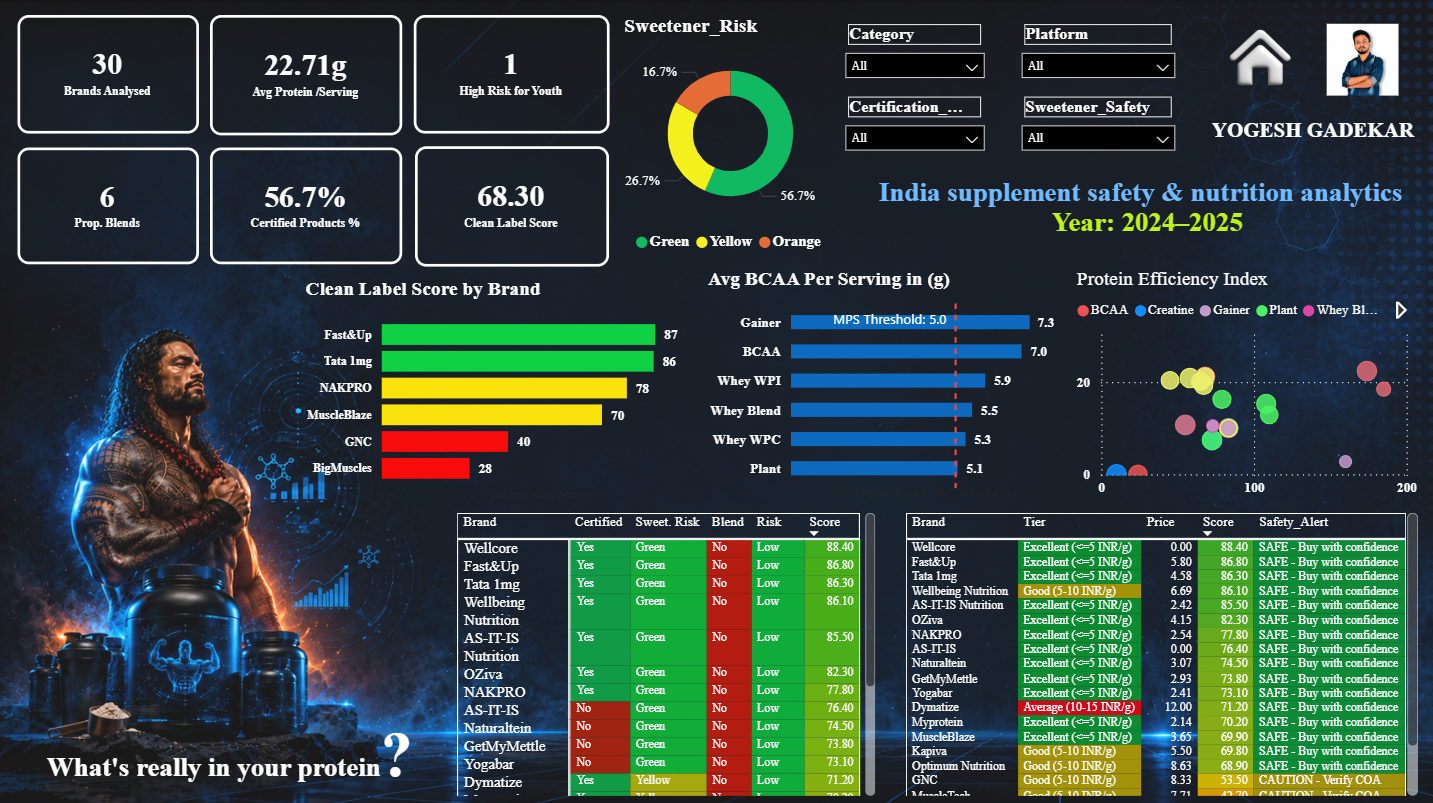

The page's visual inventory and layout, read from the dashboard file:
{"tool":"powerbi","page":{"name":"Page 1","canvas":[1280,720],"ordinal":0},"visuals":[{"type":"cardVisual","fields":{"Data":["protein_supplements_india.Total Products"]},"box":[15.7,12.9,161.4,105.7],"z":0},{"type":"cardVisual","fields":{"Data":["protein_supplements_india.Avg Protein Per Serving"]},"box":[187.1,12.9,171.4,107.1],"z":1000},{"type":"cardVisual","fields":{"Data":["protein_supplements_india.Certified Products %"]},"box":[187.1,131.4,171.4,104.3],"z":2000},{"type":"cardVisual","fields":{"Data":["protein_supplements_india.Proprietary Blend Count"]},"box":[15.7,131.4,161.4,104.3],"z":3000},{"type":"cardVisual","fields":{"Data":["protein_supplements_india.High Risk for Youth"]},"box":[368.6,12.9,174.3,105.7],"z":4000},{"type":"cardVisual","fields":{"Data":["protein_supplements_india.Clean Label Score"]},"box":[370,130,172.9,107.1],"z":5000},{"type":"clusteredBarChart","fields":{"Category":["protein_supplements_india.Brand"],"Y":["protein_supplements_india.Clean Label Score"]},"box":[267.1,247.1,358.6,204.3],"z":6000},{"type":"donutChart","title":"Sweetener_Risk","fields":{"Category":["protein_supplements_india.Sweetener_Risk"],"Y":["CountNonNull(protein_supplements_india.Product_ID)"]},"box":[551,13.4,199.3,221.5],"z":7000},{"type":"clusteredBarChart","title":"Avg BCAA Per Serving in (g)","fields":{"Y":["Avg(protein_supplements_india.BCAA_Per_Serving_g)"],"Category":["protein_supplements_india.Category_Label"]},"box":[625.7,238.6,318.6,211.4],"z":8000},{"type":"tableEx","fields":{"Values":["protein_supplements_india.Brand","protein_supplements_india.Value_Tier","protein_supplements_india.Price Per Gram of Protein","protein_supplements_india.Clean Label Score","protein_supplements_india.Safety_Alert"]},"box":[800,451.4,467.1,261.4],"z":9000},{"type":"pivotTable","fields":{"Rows":["protein_supplements_india.Brand"],"Values":["Min(protein_supplements_india.Third_Party_Certified)","Min(protein_supplements_india.Sweetener_Risk)","Min(protein_supplements_india.Has_Proprietary_Blend)","Min(protein_supplements_india.Heavy_Metal_Risk)","protein_supplements_india.Clean Label Score"]},"box":[401.4,451.4,382.9,261.4],"z":10000},{"type":"scatterChart","title":"Protein Efficiency Index","fields":{"Size":["protein_supplements_india.Clean Label Score"],"Category":["protein_supplements_india.Brand"],"Series":["protein_supplements_india.Category_Label"],"Y":["protein_supplements_india.Brand Avg Protein Efficiency"],"X":["protein_supplements_india.Brand Avg Price"]},"box":[954.3,238.6,312.9,211.4],"z":11000},{"type":"slicer","fields":{"Values":["protein_supplements_india.Category"]},"box":[742.9,17.1,144.3,64.3],"z":12000},{"type":"slicer","fields":{"Values":["protein_supplements_india.Platform"]},"box":[900,17.1,157.1,64.3],"z":13000},{"type":"slicer","fields":{"Values":["protein_supplements_india.Sweetener_Safety"]},"box":[900,81.4,157.1,64.3],"z":14000},{"type":"slicer","fields":{"Values":["protein_supplements_india.Certification_Body"]},"box":[742.9,81.4,144.3,64.3],"z":15000},{"type":"image","box":[1084.3,21.4,75.7,60],"z":16000},{"type":"image","box":[1171.4,21.4,84.3,64.3],"z":17000},{"type":"textbox","box":[1074.3,100,192.9,40],"z":18000},{"type":"textbox","box":[37.1,635.7,347.1,77.1],"z":19000},{"type":"textbox","box":[770,152.9,497.1,72.9],"z":20000}]}

Visuals, with their boxes in screenshot pixels (x1, y1, x2, y2), scaled from the page's 1280x720 canvas onto the 1433x803 screenshot:
cardVisual - protein_supplements_india.Total Products: locate(18, 14, 198, 132)
cardVisual - protein_supplements_india.Avg Protein Per Serving: locate(209, 14, 401, 134)
cardVisual - protein_supplements_india.Certified Products %: locate(209, 147, 401, 263)
cardVisual - protein_supplements_india.Proprietary Blend Count: locate(18, 147, 198, 263)
cardVisual - protein_supplements_india.High Risk for Youth: locate(413, 14, 608, 132)
cardVisual - protein_supplements_india.Clean Label Score: locate(414, 145, 608, 264)
clusteredBarChart - protein_supplements_india.Brand x protein_supplements_india.Clean Label Score: locate(299, 276, 700, 503)
"Sweetener_Risk" donutChart: locate(617, 15, 840, 262)
"Avg BCAA Per Serving in (g)" clusteredBarChart: locate(700, 266, 1057, 502)
tableEx - protein_supplements_india.Brand x protein_supplements_india.Value_Tier: locate(896, 503, 1419, 795)
pivotTable - protein_supplements_india.Brand x Min(protein_supplements_india.Third_Party_Certified): locate(449, 503, 878, 795)
"Protein Efficiency Index" scatterChart: locate(1068, 266, 1419, 502)
slicer - protein_supplements_india.Category: locate(832, 19, 993, 91)
slicer - protein_supplements_india.Platform: locate(1008, 19, 1183, 91)
slicer - protein_supplements_india.Sweetener_Safety: locate(1008, 91, 1183, 162)
slicer - protein_supplements_india.Certification_Body: locate(832, 91, 993, 162)
image: locate(1214, 24, 1299, 91)
image: locate(1311, 24, 1406, 96)
textbox: locate(1203, 112, 1419, 156)
textbox: locate(42, 709, 430, 795)
textbox: locate(862, 171, 1419, 252)
